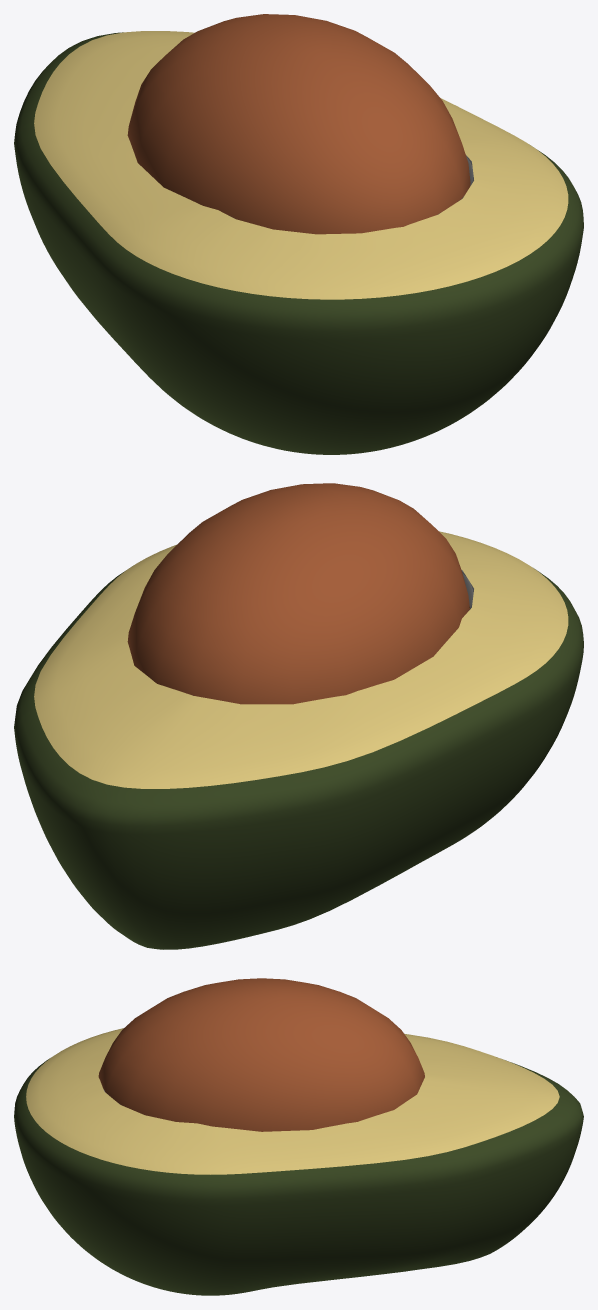
File: avocado copy.fbx
3 views of the same model, one above another, from view 1: azimuth 30°, elevation 25°; view 2: azimuth 150°, elevation 25°; view 3: azimuth 270°, elevation 25° (orthographic). The views are drawn at different scales.
Parts seen in each view (by area): view 1: pSphere5; view 2: pSphere5; view 3: pSphere5.
Boxes of the visible parts, <box> form: pSphere5: <box>14,14,583,454</box>; pSphere5: <box>14,483,583,949</box>; pSphere5: <box>14,978,583,1295</box>.
Size of the model in its own units: 1.95 by 1.57 by 2.82.
